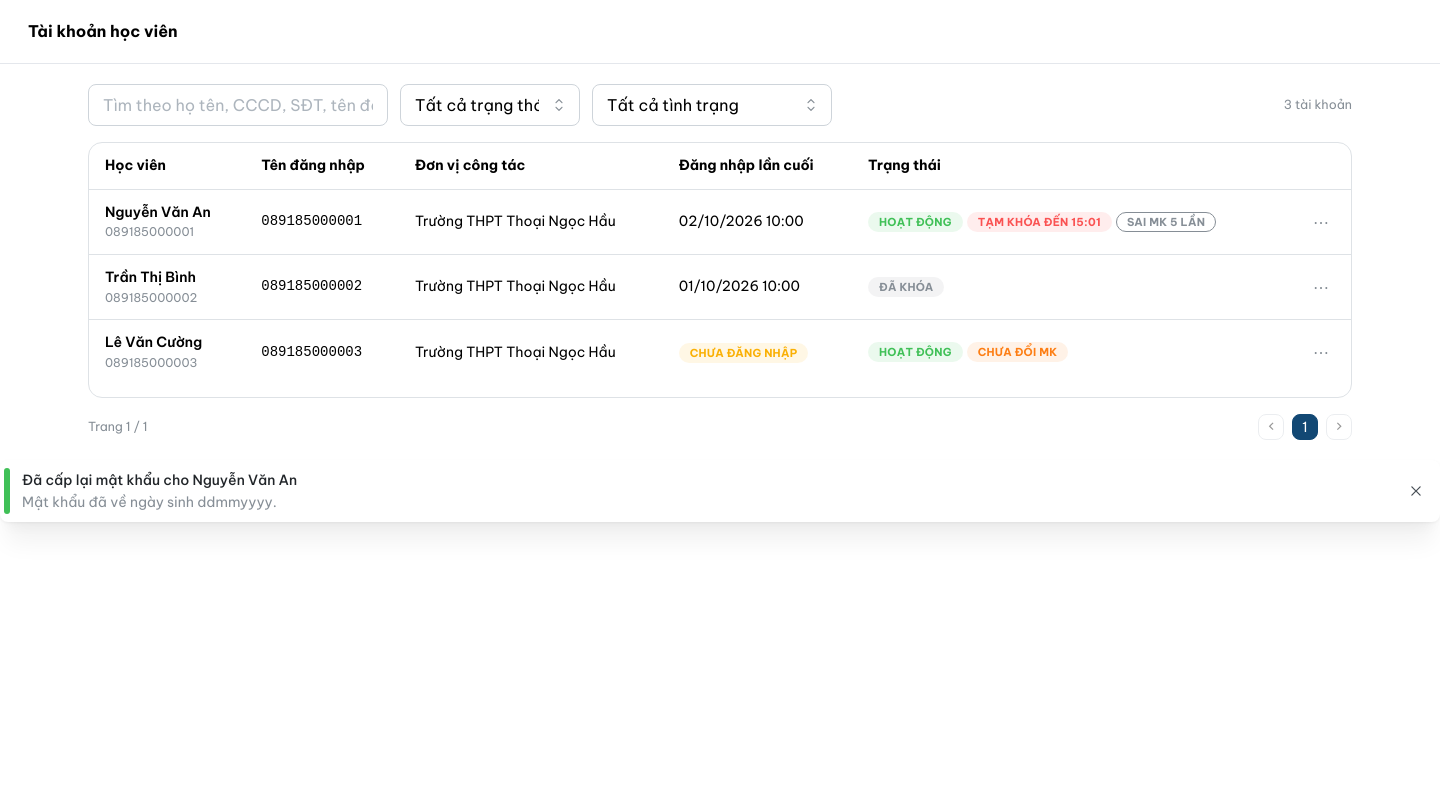
Admin — Tài khoản học viên › cấp lại mật khẩu: hủy thì không gọi API
This screenshot has width=1440, height=810.
Click the button "⋯" in the row of "Lê Văn Cường" at (1321, 352), box [1307, 338, 1335, 366]
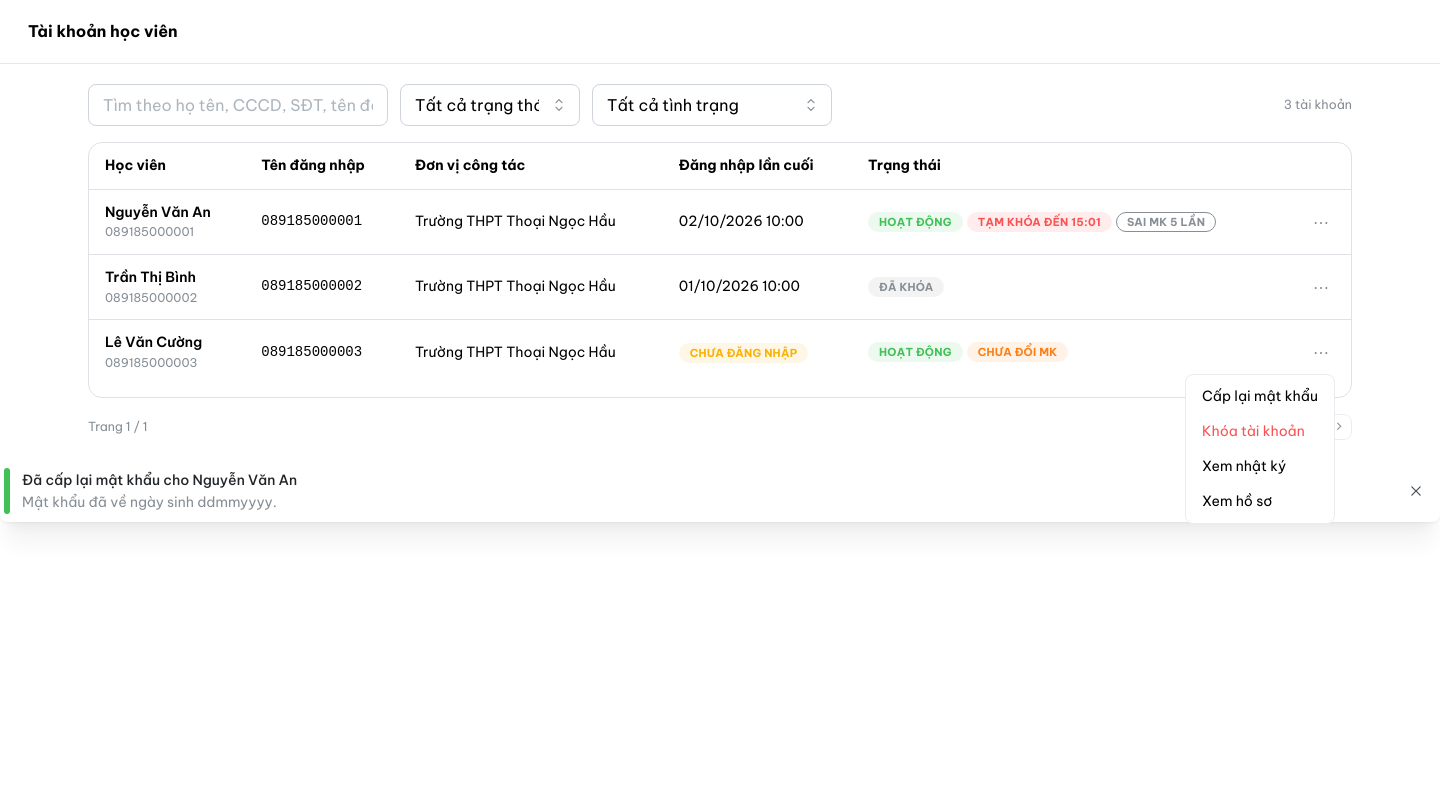
Click the menu item "Cấp lại mật khẩu" at (1260, 397), box [1190, 379, 1330, 414]
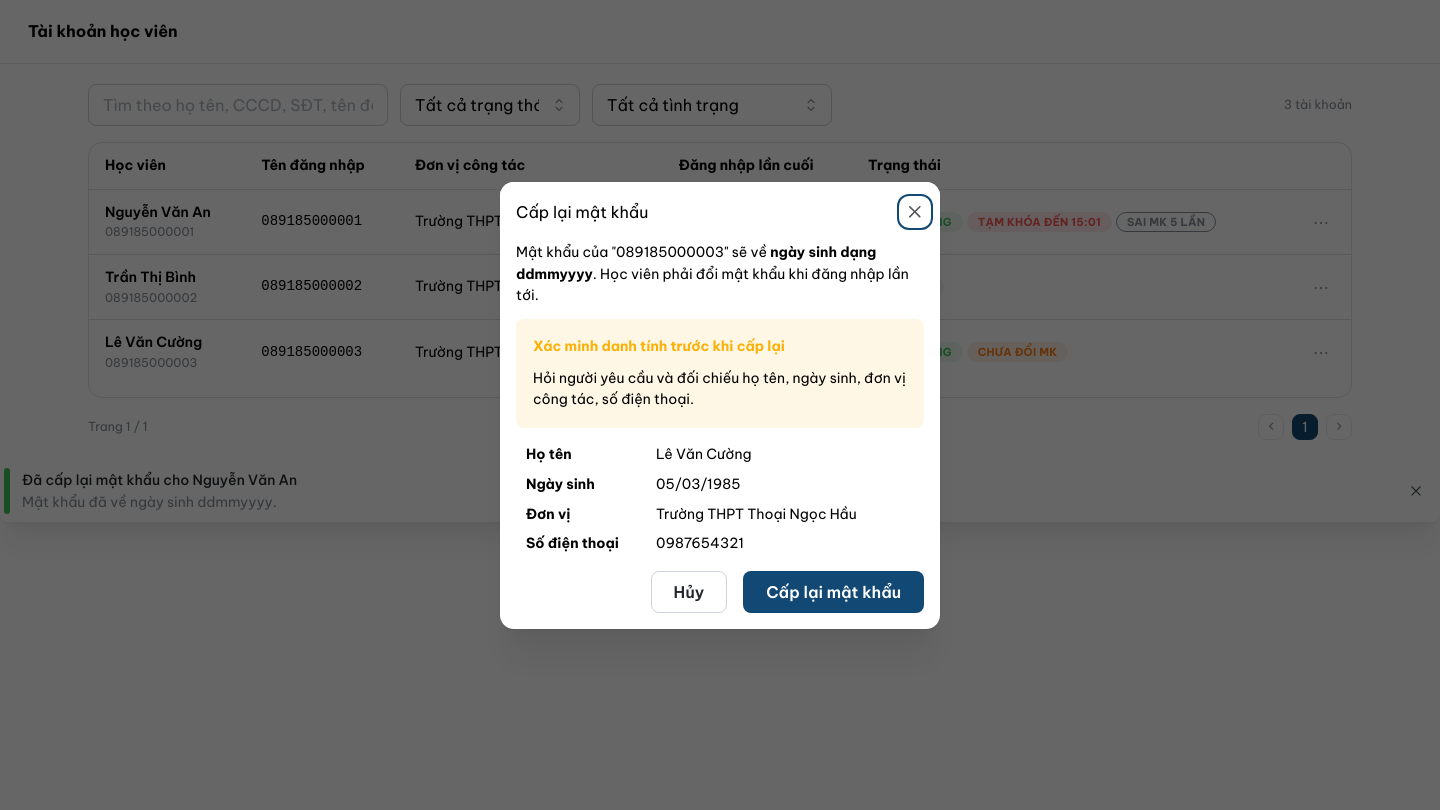
Click the button "Hủy" at (689, 591), box [650, 570, 727, 612]
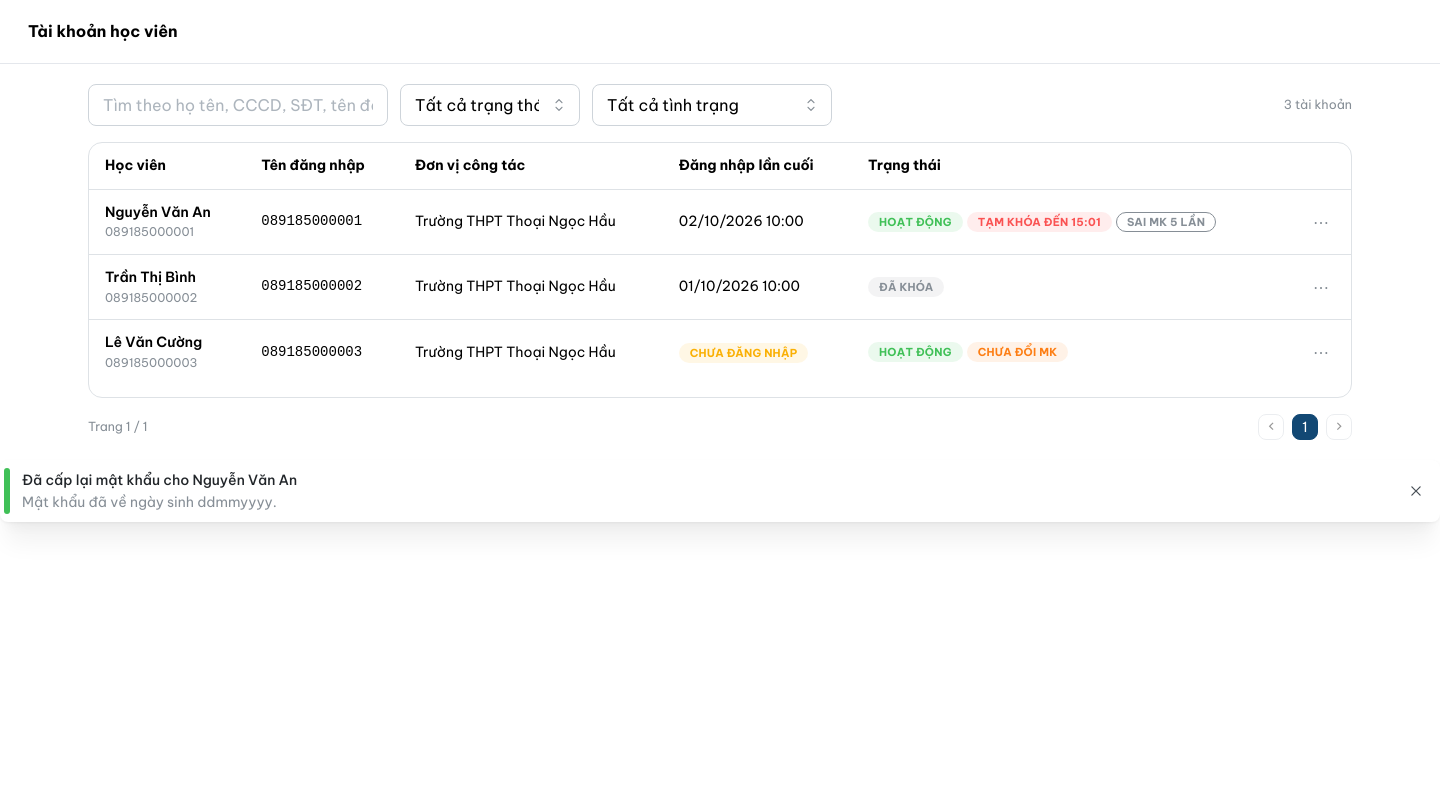
Expected: the dialog is gone
